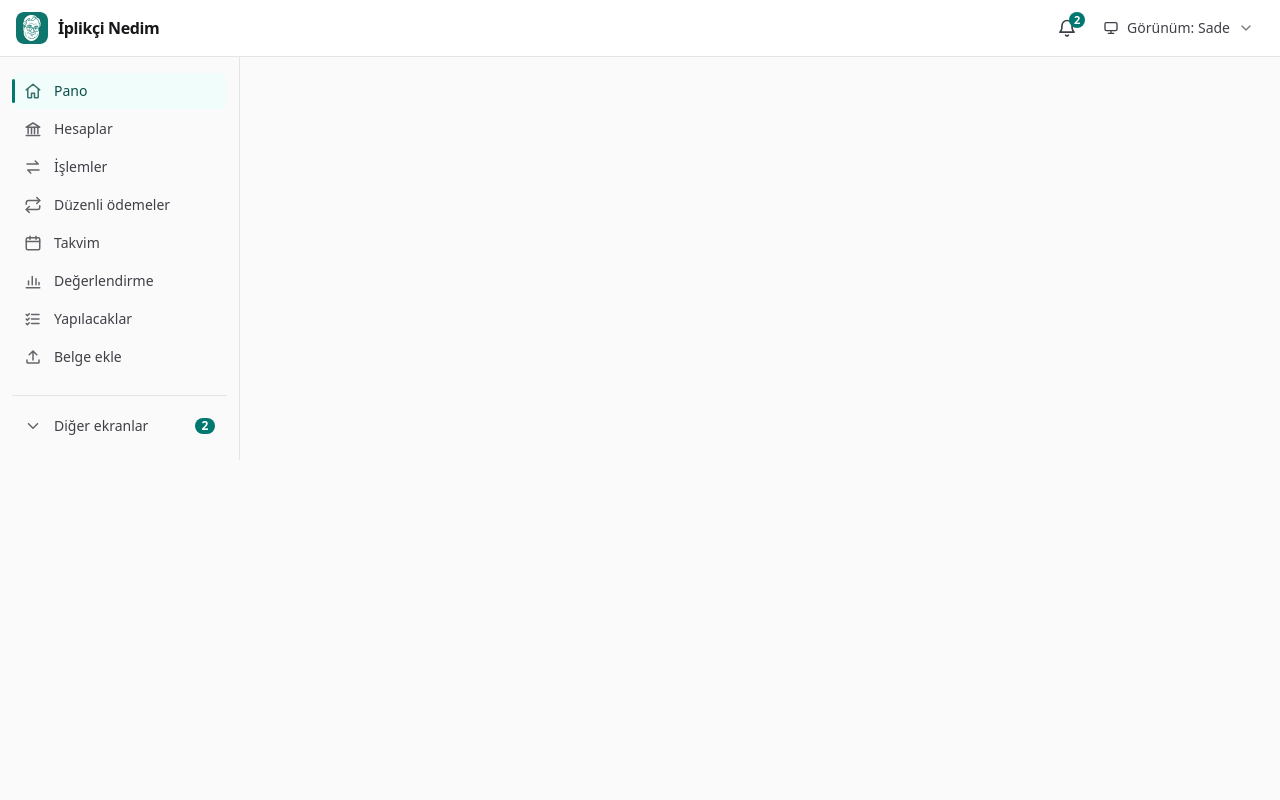
Test: Layout › lists the everyday screens first in the simple view and folds the others under Diğer ekranlar
The image size is (1280, 800).
Expected: the link "Kurallar" is not shown
Click the heading "Diğer ekranlar 2".
click(120, 426)  # box [12,408,227,444]
(page scrolled)
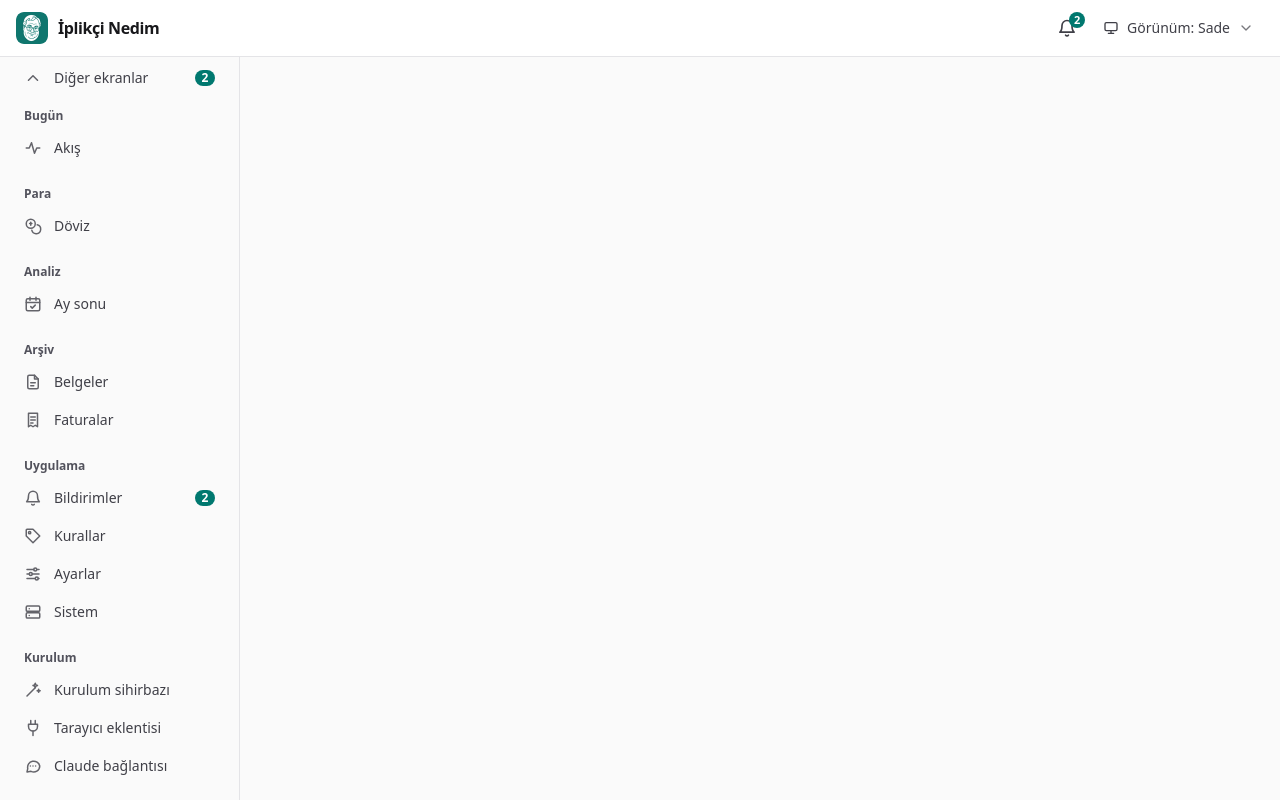
Now the link "Kurallar" is shown, box [24,526,106,545]
